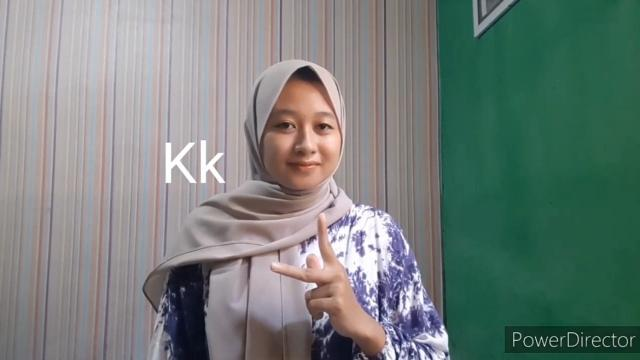K: (270, 213, 370, 339)
